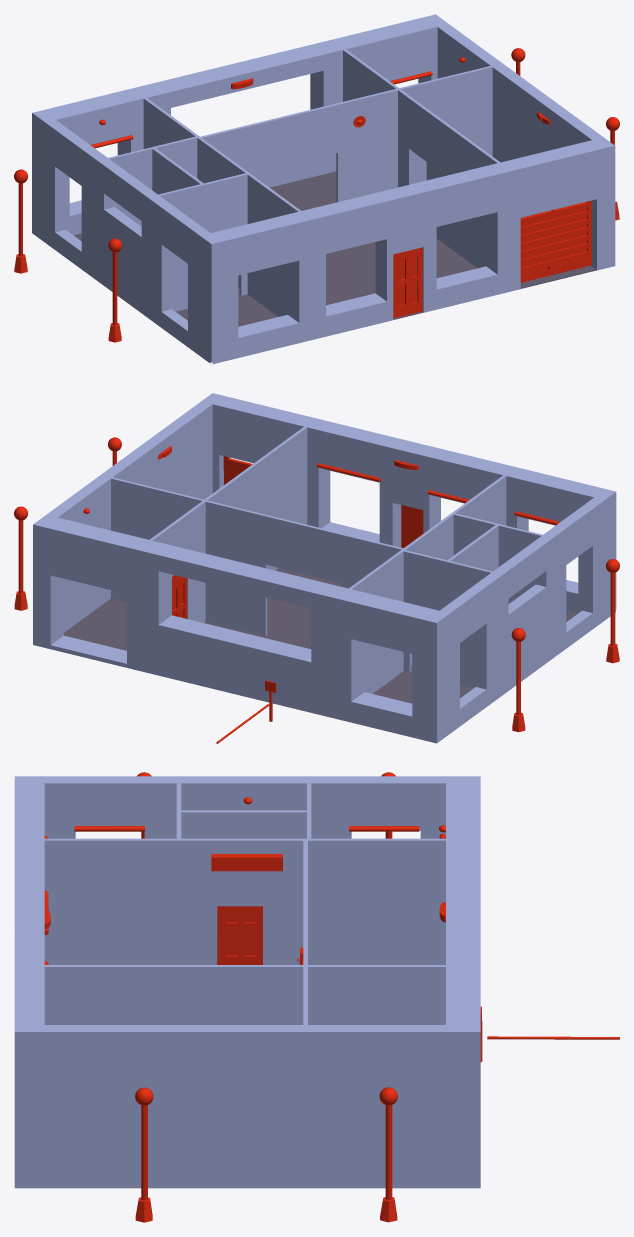
3 renders of one model, top to bottom at view 1: azimuth 30°, elevation 25°; view 2: azimuth 150°, elevation 25°; view 3: azimuth 270°, elevation 25°, orthographic. The views are drawn at different scales.
Parts seen in each view (by area): view 1: maquetaSTL, Cubo, porton, puerta, Esfera, Esfera.001; view 2: maquetaSTL, Cubo, Esfera, Esfera.003, puerta, Esfera.001, puerta.004; view 3: maquetaSTL, puerta.005, Esfera.003, Esfera.002, Cubo.007.
Boxes of the visible parts, x1=… form: maquetaSTL: x1=32, y1=14, x2=615, y2=364; Cubo: x1=74, y1=171, x2=596, y2=326; porton: x1=520, y1=200, x2=591, y2=282; puerta: x1=393, y1=247, x2=422, y2=318; Esfera: x1=108, y1=238, x2=122, y2=342; Esfera.001: x1=14, y1=169, x2=27, y2=273; maquetaSTL: x1=33, y1=393, x2=616, y2=743; Cubo: x1=64, y1=568, x2=577, y2=703; Esfera: x1=606, y1=559, x2=619, y2=663; Esfera.003: x1=14, y1=506, x2=27, y2=610; puerta: x1=401, y1=505, x2=423, y2=548; Esfera.001: x1=511, y1=628, x2=525, y2=732; puerta.004: x1=172, y1=575, x2=187, y2=618; maquetaSTL: x1=14, y1=776, x2=480, y2=1188; puerta.005: x1=217, y1=906, x2=262, y2=964; Esfera.003: x1=379, y1=1087, x2=397, y2=1222; Esfera.002: x1=135, y1=1087, x2=153, y2=1222; Cubo.007: x1=211, y1=854, x2=282, y2=871.
Bounding box in the file's own units: 1.86 × 0.4813 × 1.47.
